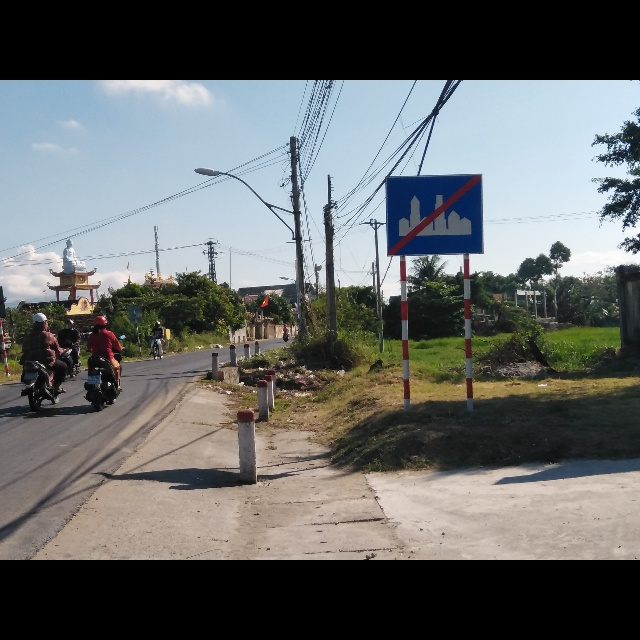Hết khu đông dân cư: (385, 174, 484, 256)
